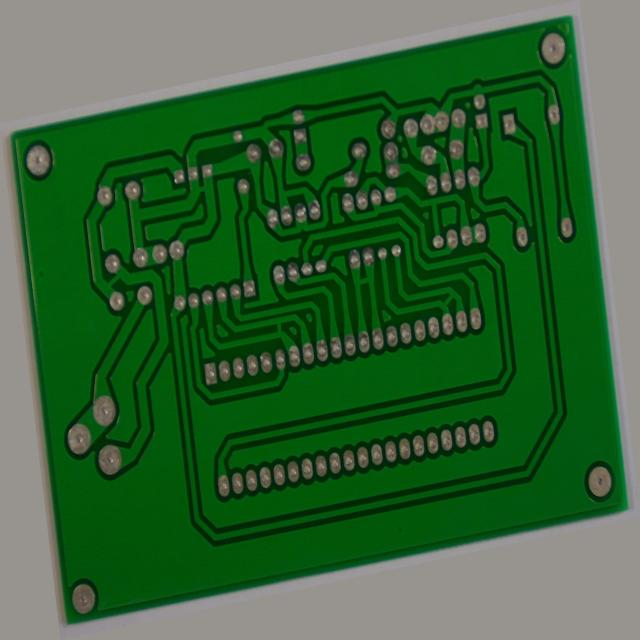short: (85, 202, 117, 235), (445, 311, 474, 344), (261, 303, 287, 333), (195, 118, 222, 146), (359, 272, 385, 299)
